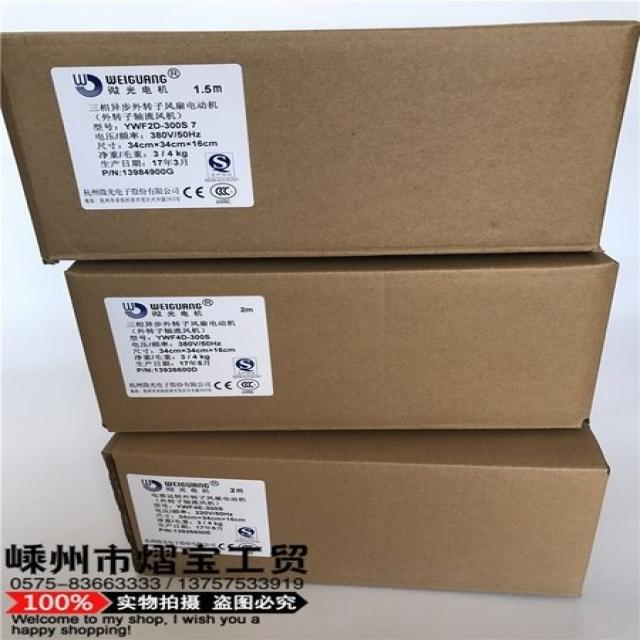box: (0, 20, 638, 263), (64, 252, 620, 433), (100, 427, 611, 599)
